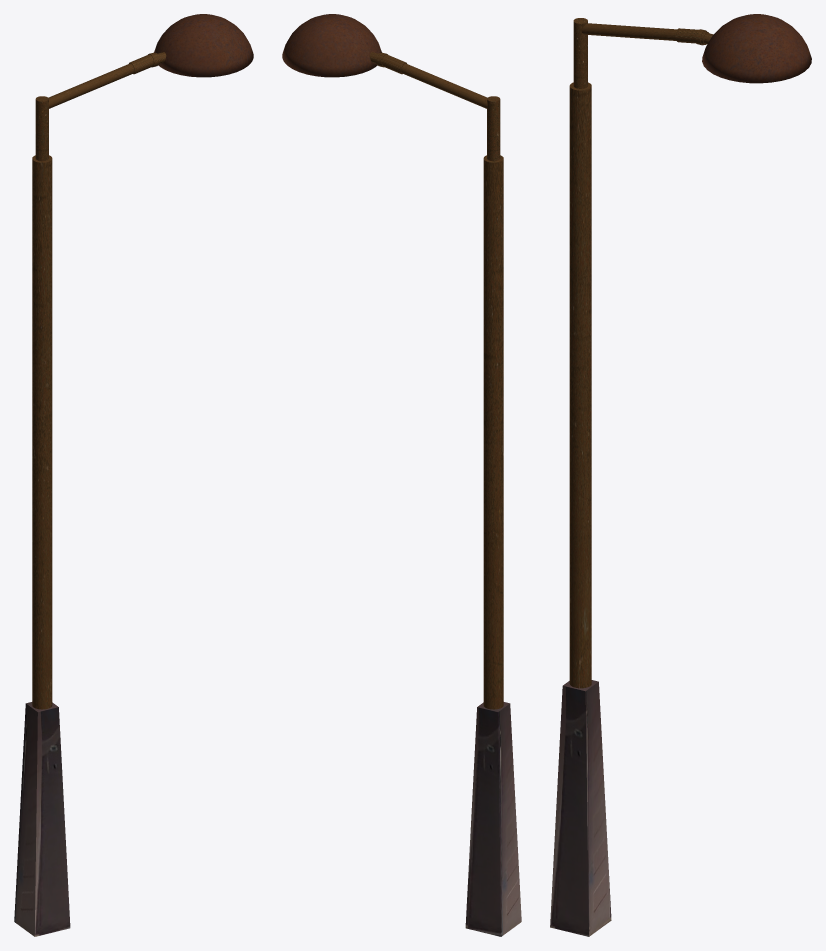
The model's file is Farola_2.fbx.
The picture shows the model from 3 angles, left to right: view 1: azimuth 30°, elevation 25°; view 2: azimuth 150°, elevation 25°; view 3: azimuth 330°, elevation 25°; orthographic projection. The views are drawn at different scales.
Visible parts, largest first — view 1: Farola.007; view 2: Farola.007; view 3: Farola.007.
Boxes of the visible parts, x1,y1,x2,y2 form: Farola.007: (14,14,253,936); Farola.007: (282,14,521,936); Farola.007: (550,14,811,936).
Size of the model in its own units: 106 by 394 by 41.52.
Materials: 3 (3 with a texture image).
